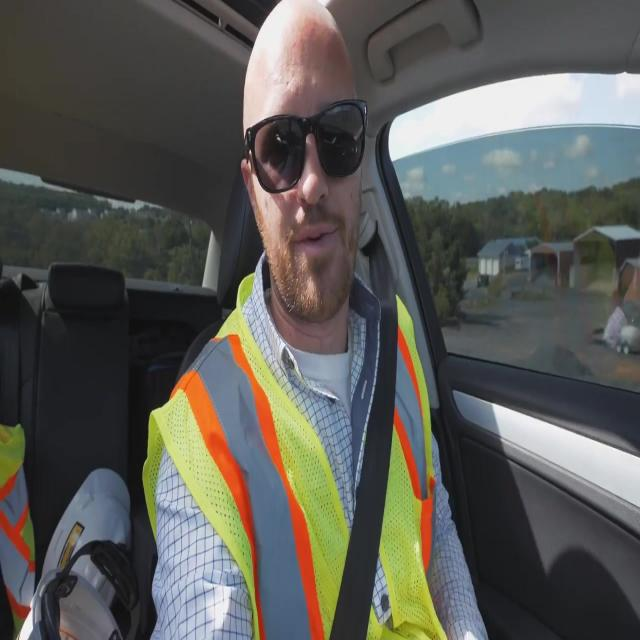Reflective-Jacket: (141, 282, 451, 636), (1, 391, 40, 637)
